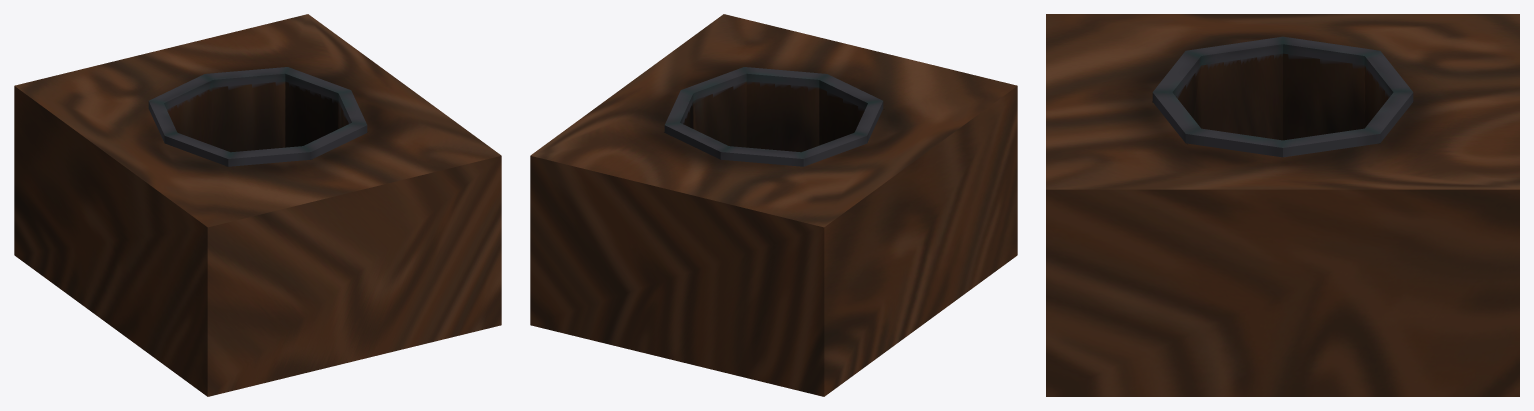
The picture shows the model from 3 angles, left to right: view 1: azimuth 30°, elevation 25°; view 2: azimuth 150°, elevation 25°; view 3: azimuth 270°, elevation 25°; orthographic projection. The views are drawn at different scales.
Visible parts, largest first — view 1: Vater_Cube.002; view 2: Vater_Cube.002; view 3: Vater_Cube.002.
Part boxes in pixels (x1=…): Vater_Cube.002: x1=14, y1=14, x2=501, y2=396; Vater_Cube.002: x1=530, y1=14, x2=1017, y2=396; Vater_Cube.002: x1=1046, y1=14, x2=1519, y2=396.
Size of the model in its own units: 1.41 by 0.8117 by 1.61.
